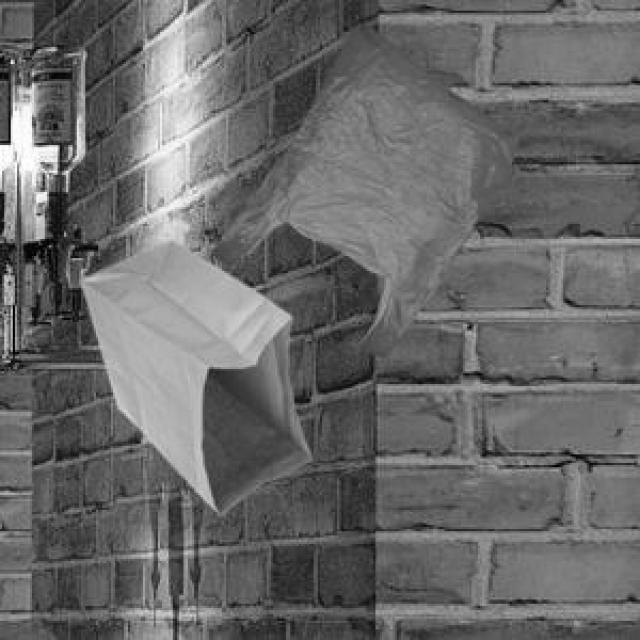paper: (77, 237, 309, 510)
